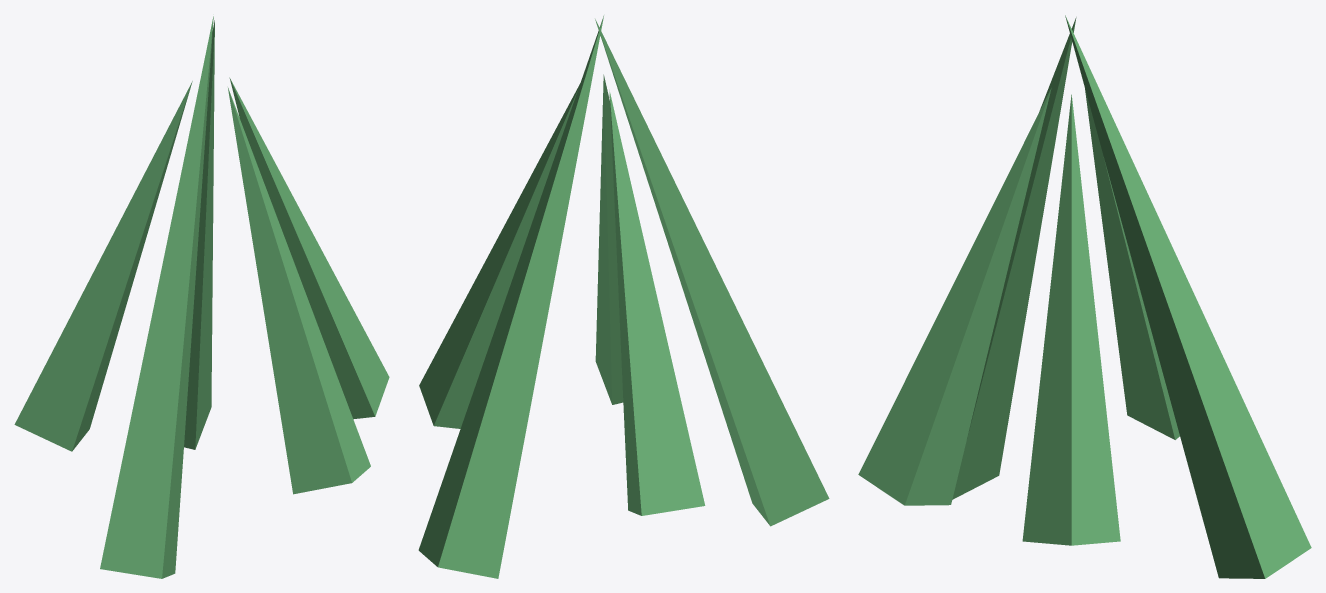
Rendered from grass_tuft.glb.
3 renders of one model, left to right at view 1: azimuth 30°, elevation 25°; view 2: azimuth 150°, elevation 25°; view 3: azimuth 270°, elevation 25°, orthographic. The views are drawn at different scales.
Parts seen in each view (by area): view 1: Grass0; view 2: Grass0; view 3: Grass0.
Boxes of the visible parts, x1=… form: Grass0: x1=14, y1=16, x2=389, y2=578; Grass0: x1=418, y1=16, x2=829, y2=578; Grass0: x1=858, y1=15, x2=1311, y2=578.
Size of the model in its own units: 0.5279 by 0.7243 by 0.5541.
